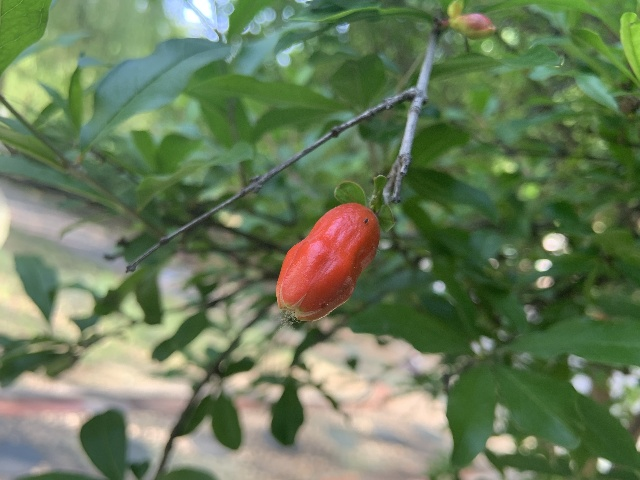bud: (275, 202, 380, 321)
